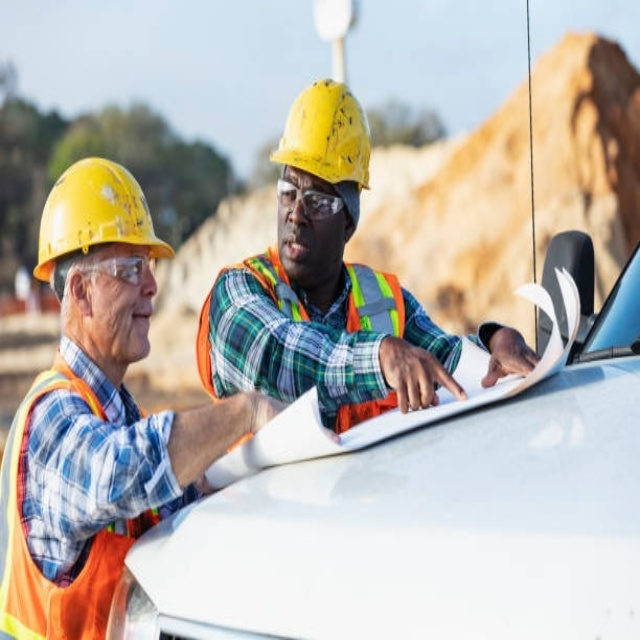Gafas: (66, 254, 154, 287), (276, 181, 347, 219)
Sin_guantes: (379, 335, 465, 413), (481, 326, 540, 383)
Sin_mascara: (119, 300, 156, 348), (281, 234, 313, 268)
